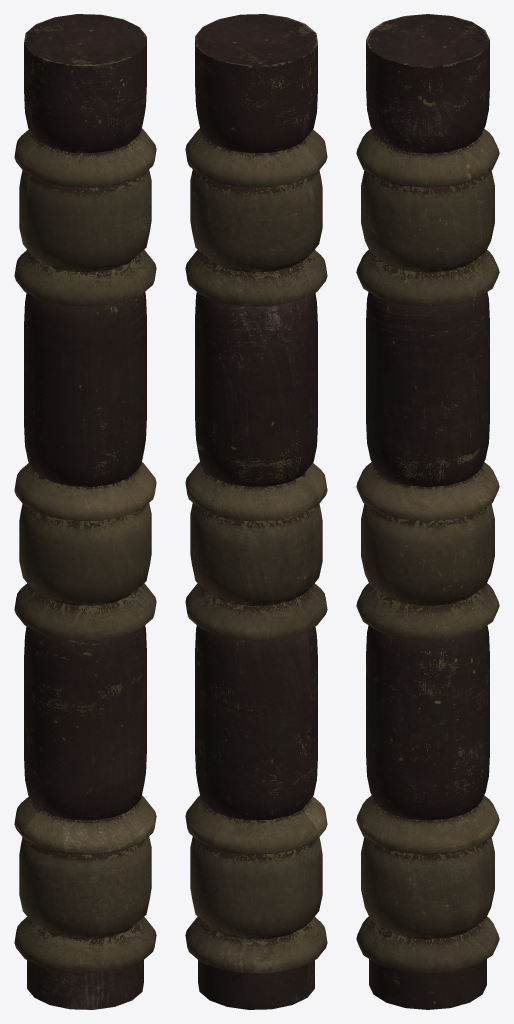
Rendered from column.fbx.
3 renders of one model, left to right at view 1: azimuth 30°, elevation 25°; view 2: azimuth 150°, elevation 25°; view 3: azimuth 270°, elevation 25°, orthographic.
Visible parts, largest first — view 1: Cylinder.010; view 2: Cylinder.010; view 3: Cylinder.010.
Boxes of the visible parts, bbox=[...] form: Cylinder.010: bbox=[14, 14, 156, 1009]; Cylinder.010: bbox=[185, 14, 327, 1009]; Cylinder.010: bbox=[356, 14, 499, 1009].
Bounding box in the file's own units: 28.48 × 207 × 28.48.
